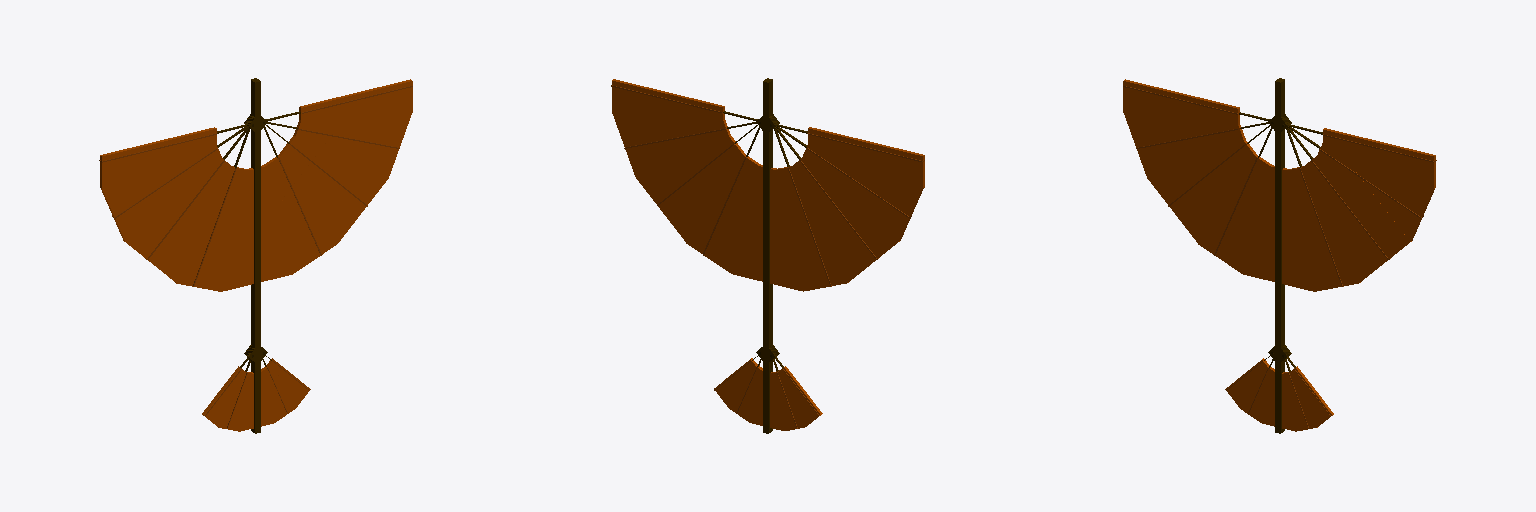
3 renders of one model, left to right at view 1: azimuth 30°, elevation 25°; view 2: azimuth 150°, elevation 25°; view 3: azimuth 330°, elevation 25°, orthographic.
Visible parts, largest first — view 1: hexadecagon, Staff Body, cube; view 2: hexadecagon, Staff Body, cube; view 3: hexadecagon, Staff Body, cube.
Boxes of the visible parts, <box> form: hexadecagon: <box>100,79,412,431</box>; Staff Body: <box>251,78,260,433</box>; cube: <box>99,86,412,428</box>; hexadecagon: <box>612,79,924,430</box>; Staff Body: <box>763,78,772,433</box>; cube: <box>611,85,924,428</box>; hexadecagon: <box>1123,79,1435,431</box>; Staff Body: <box>1275,78,1284,433</box>; cube: <box>1123,86,1436,428</box>.
Bounding box in the file's own units: 2.06 × 2.22 × 0.0549.
1 materials, 1 textured.